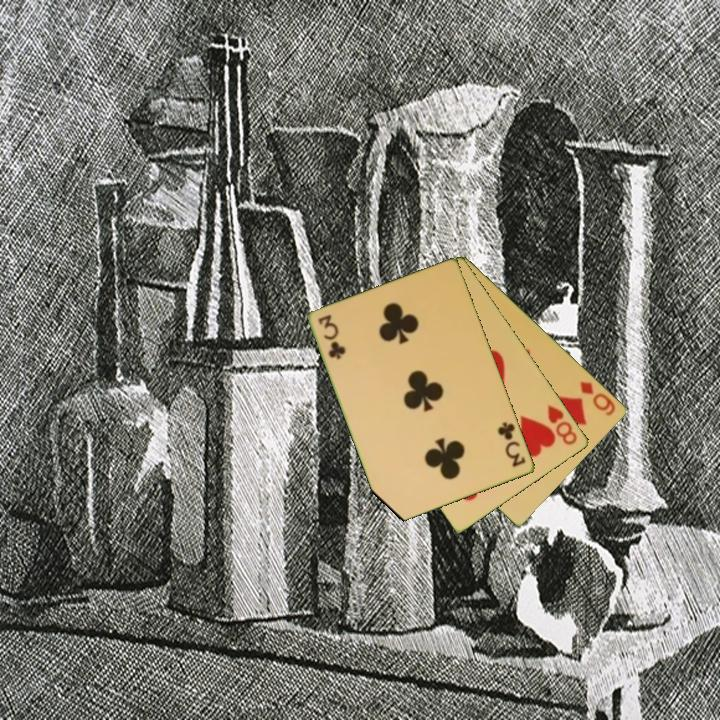3c: (494, 418, 529, 470), (315, 311, 348, 363)
6d: (576, 378, 619, 419)
8h: (544, 401, 581, 448)
